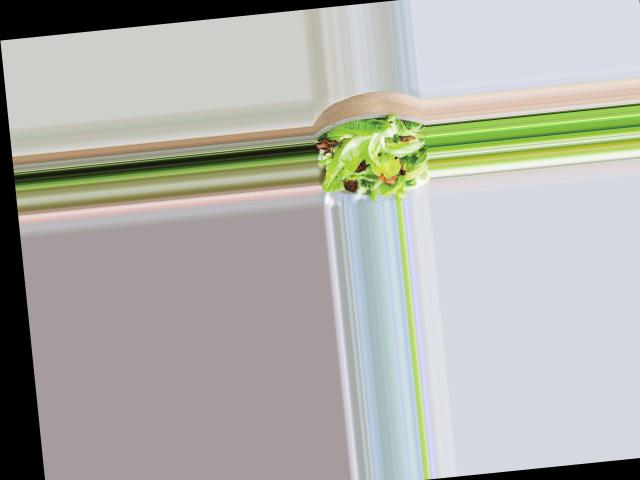lettuce: (323, 113, 425, 200)
